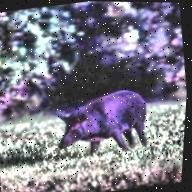boar: (42, 87, 178, 169)
